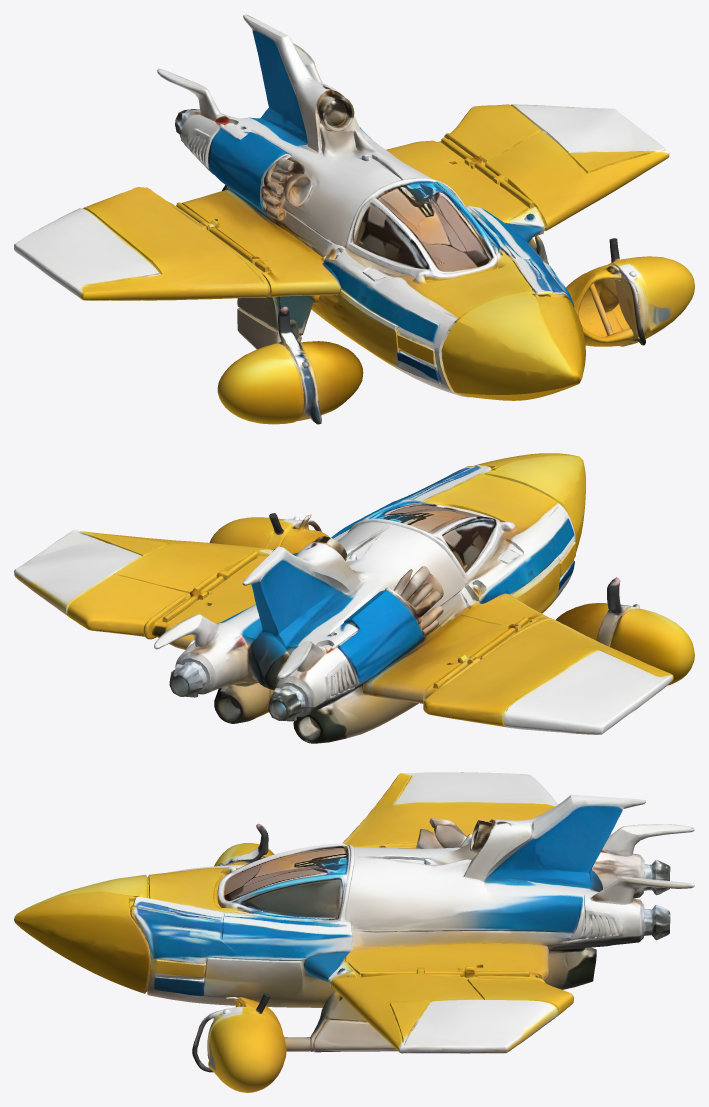
The model's file is courier.glb.
3 renders of one model, top to bottom at view 1: azimuth 30°, elevation 25°; view 2: azimuth 150°, elevation 25°; view 3: azimuth 270°, elevation 25°, orthographic. The views are drawn at different scales.
Visible parts, largest first — view 1: model; view 2: model; view 3: model.
Part boxes in pixels (left/top/right/bottom): model: left=14, top=14, right=694, bottom=424; model: left=14, top=453, right=694, bottom=743; model: left=14, top=772, right=694, bottom=1092.
Size of the model in its own units: 1.81 by 0.6525 by 1.9.
Materials: 1 (1 with a texture image).
